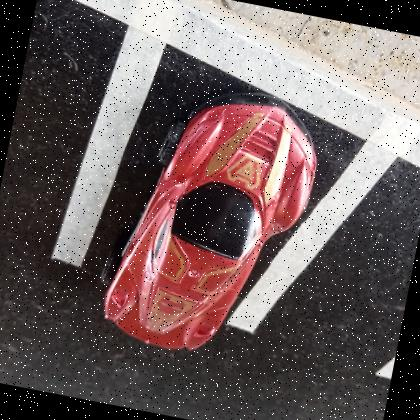Car: (104, 94, 318, 350)
